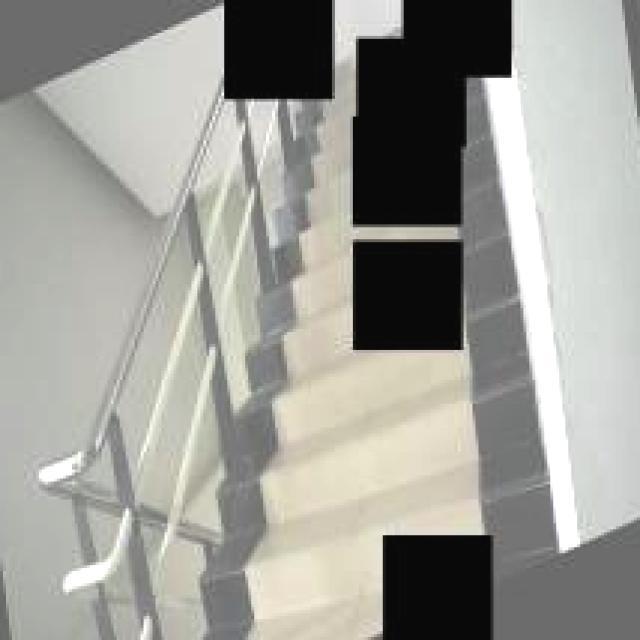upstair: (223, 357, 567, 533)
